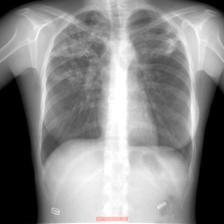tuberculosis: (34, 1, 200, 209)
